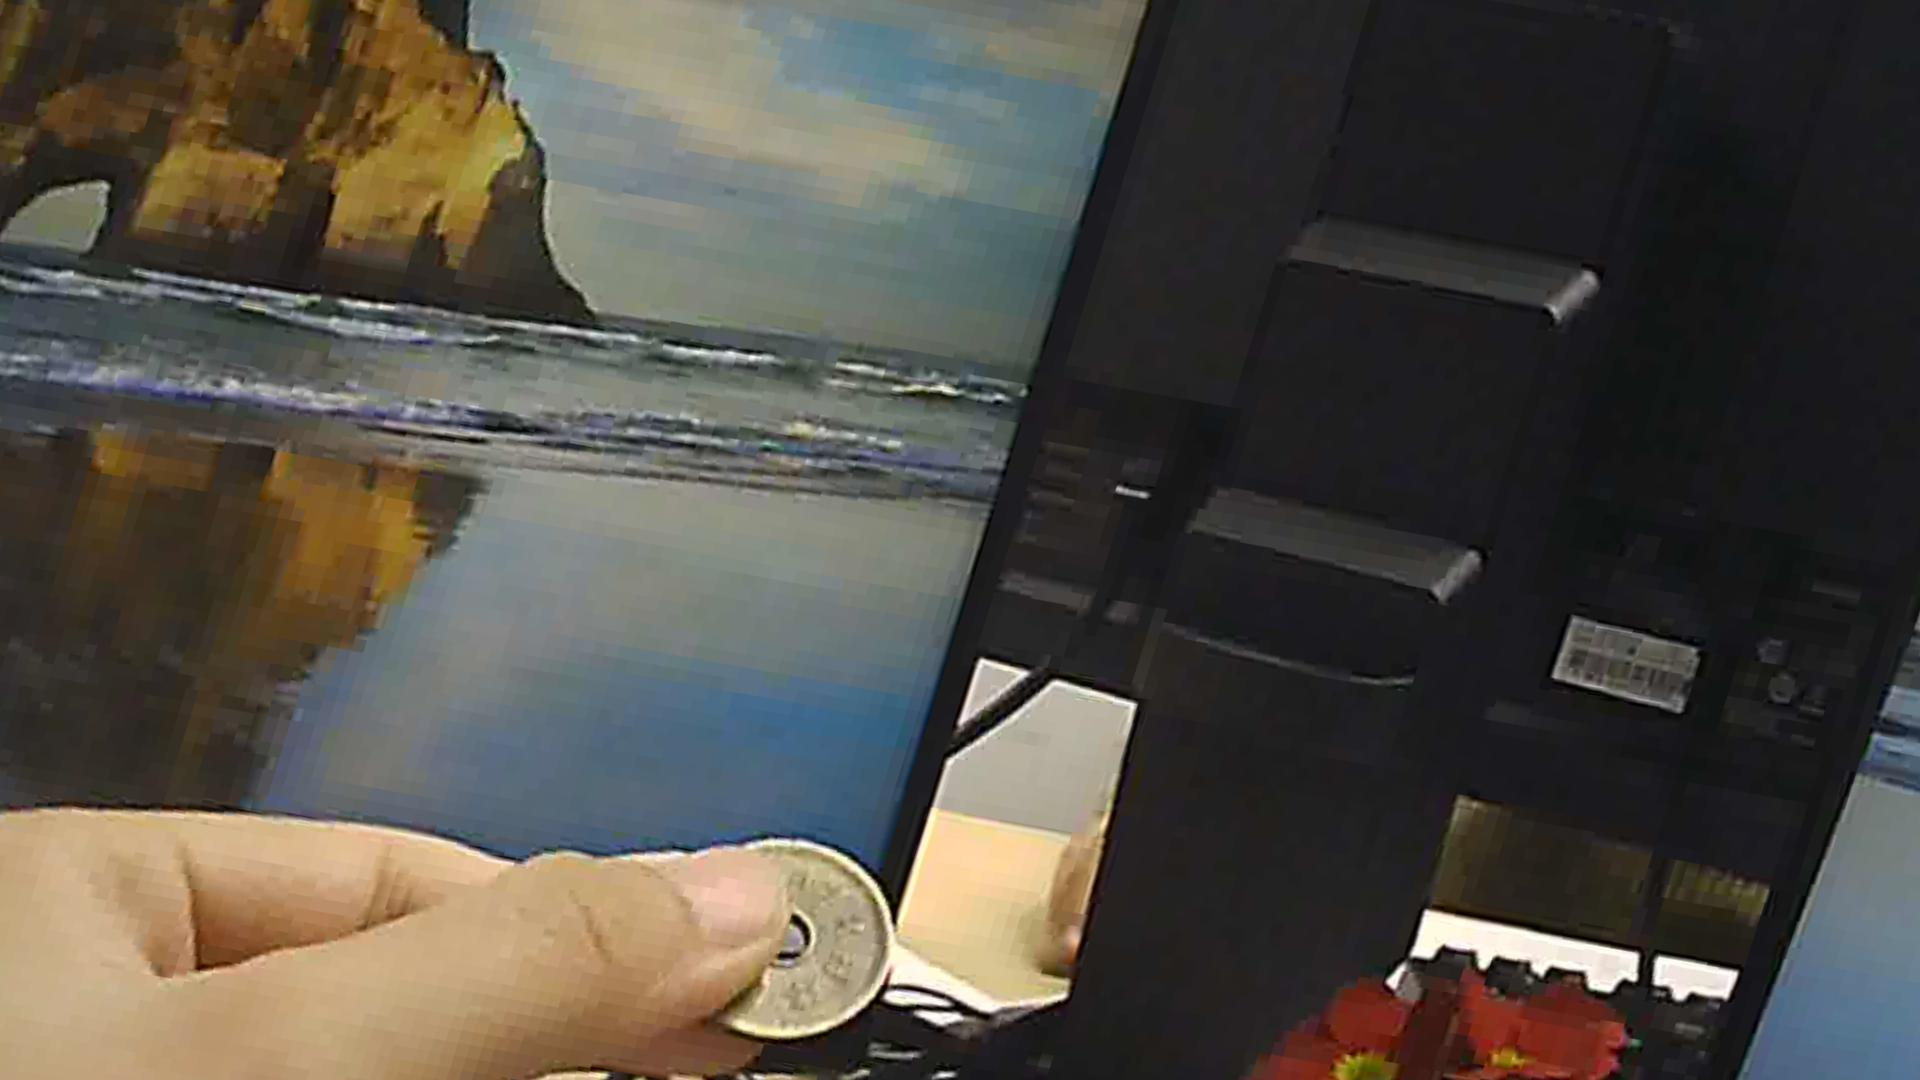5 Yen: (698, 827, 891, 1051)
